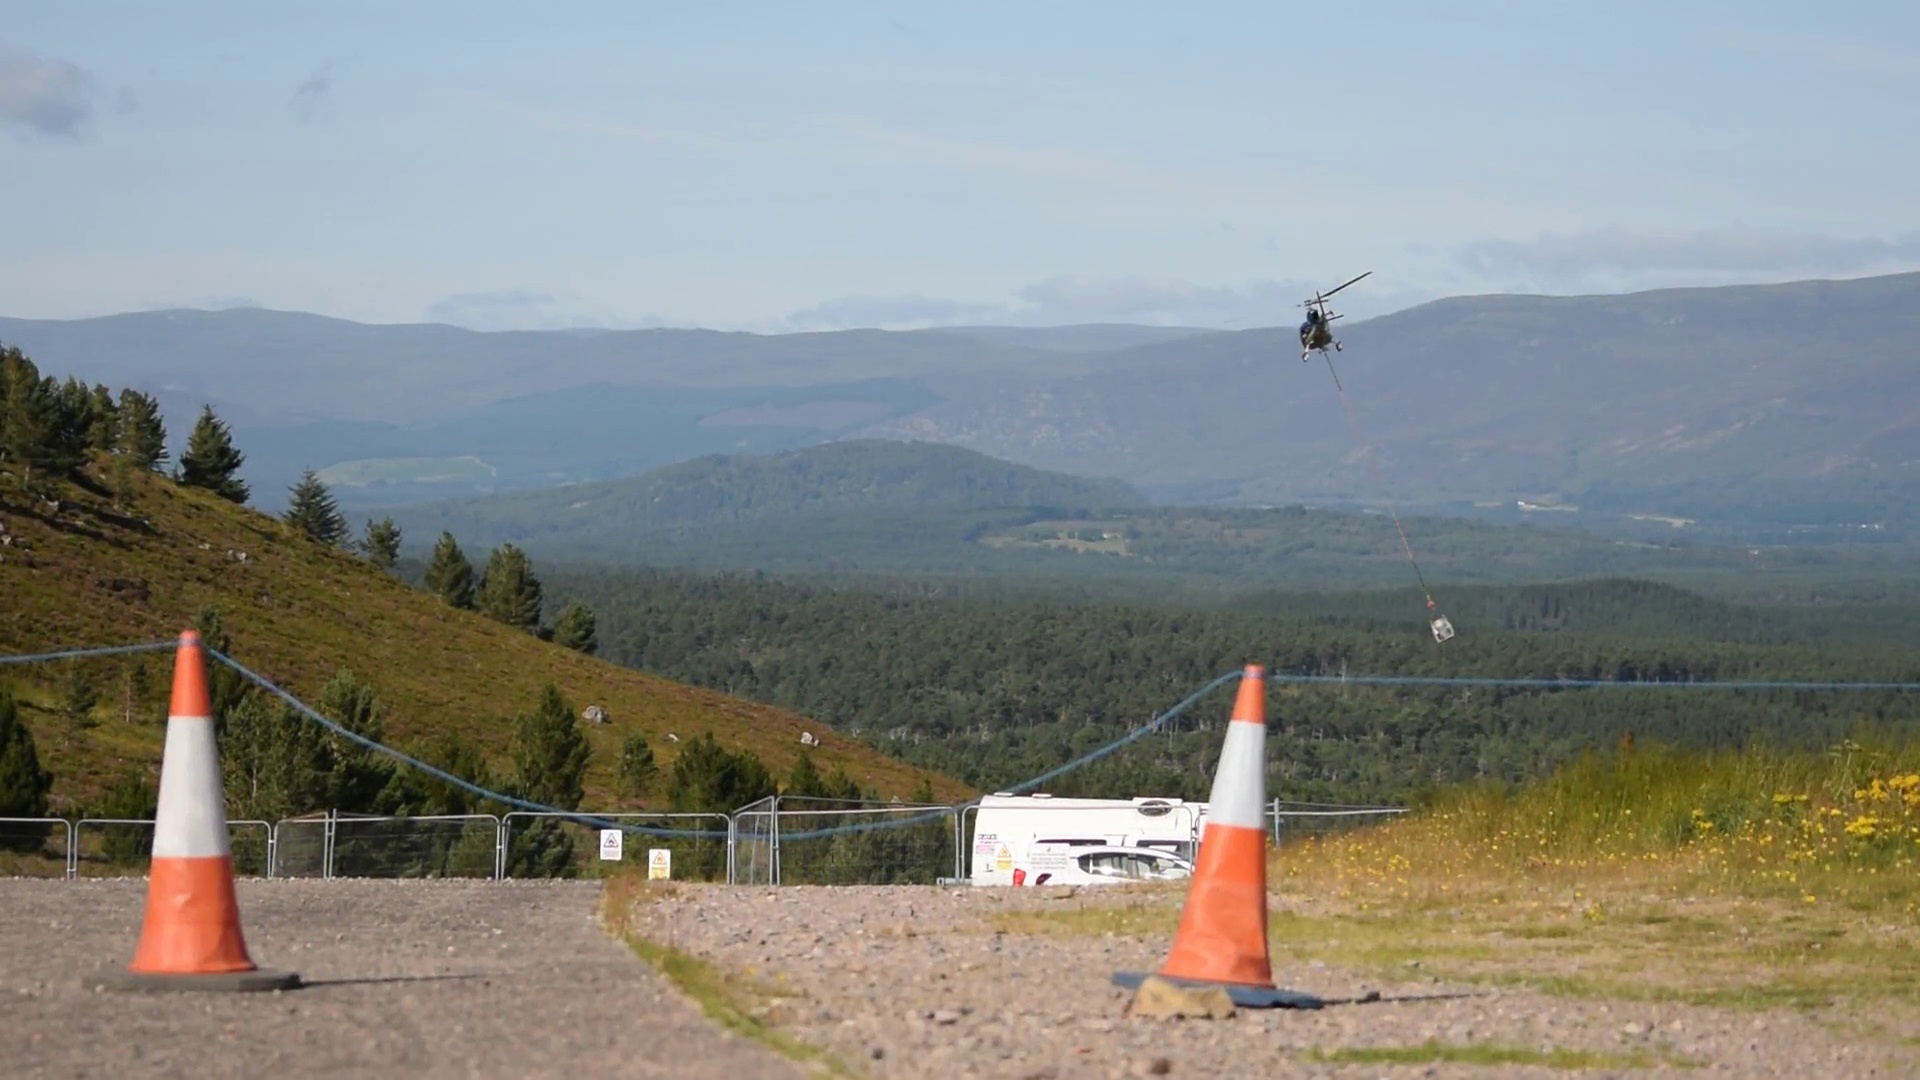heli: (1280, 266, 1371, 364)
